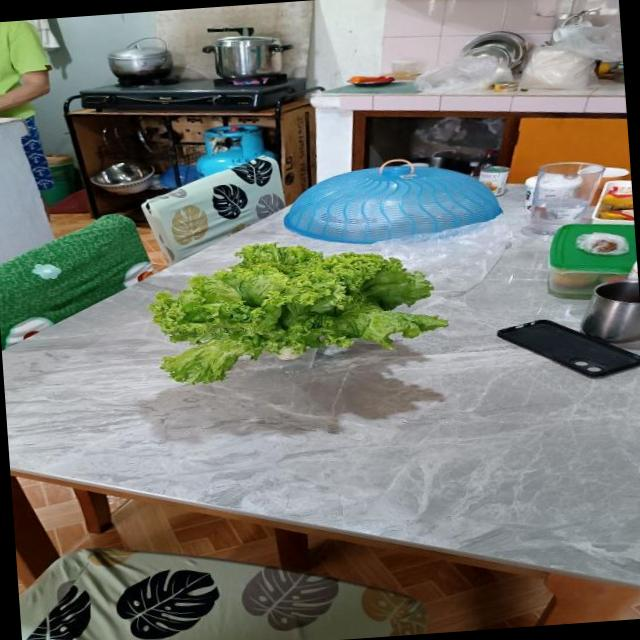Lettuce-Ready-to-Harvest: (150, 245, 447, 381)
